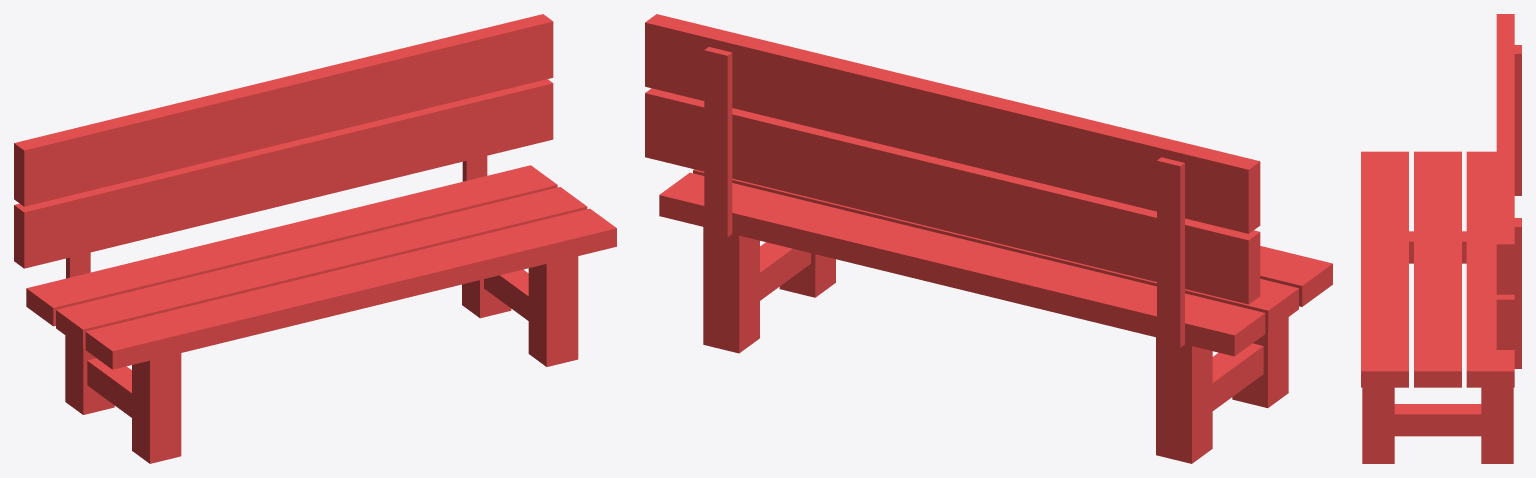
The model's file is MY_Chair.fbx.
3 views of the same model, side by side, from view 1: azimuth 30°, elevation 25°; view 2: azimuth 150°, elevation 25°; view 3: azimuth 270°, elevation 25° (orthographic). The views are drawn at different scales.
Visible parts, largest first — view 1: chair; view 2: chair; view 3: chair.
Boxes of the visible parts, x1=… form: chair: x1=14, y1=14, x2=616, y2=463; chair: x1=645, y1=14, x2=1332, y2=463; chair: x1=1361, y1=14, x2=1521, y2=463.
Bounding box in the file's own units: 388 × 190 × 114.
